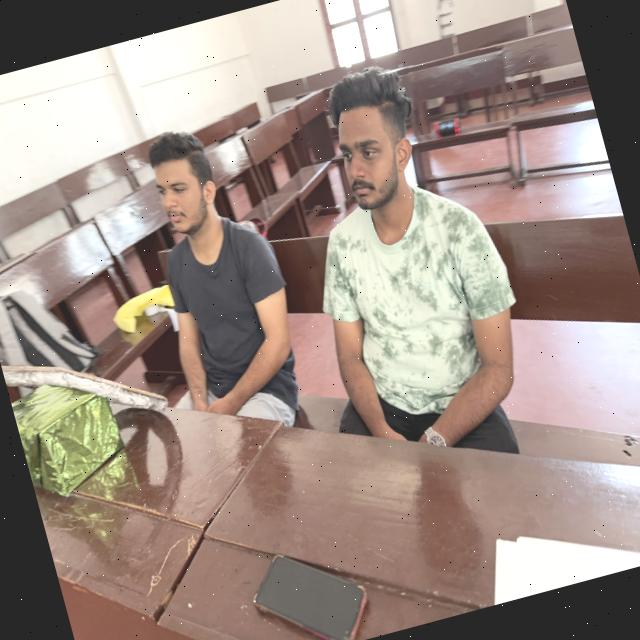no-seatbelt: (302, 165, 548, 482), (153, 214, 330, 466)
